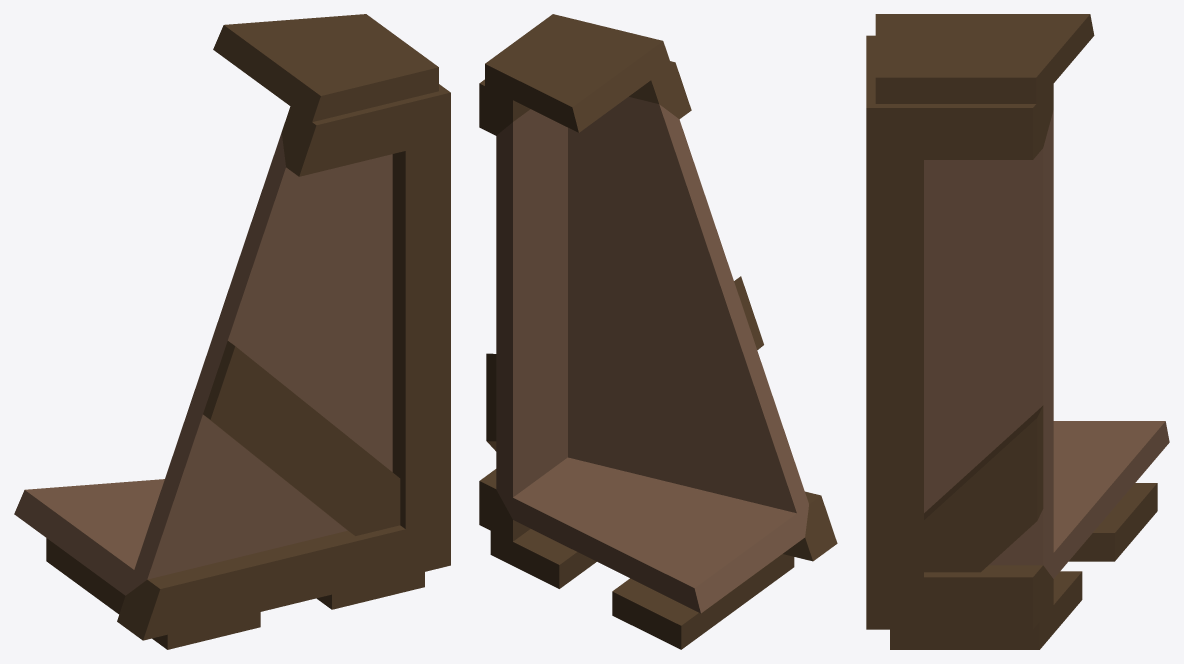
The model's file is crate_chunk4.fbx.
3 views of the same model, side by side, from view 1: azimuth 30°, elevation 25°; view 2: azimuth 150°, elevation 25°; view 3: azimuth 270°, elevation 25° (orthographic). The views are drawn at different scales.
Parts seen in each view (by area): view 1: crate_chunk4; view 2: crate_chunk4; view 3: crate_chunk4.
Part boxes in pixels (left/top/right/bottom): crate_chunk4: left=14, top=14, right=450, bottom=649; crate_chunk4: left=479, top=14, right=837, bottom=649; crate_chunk4: left=866, top=14, right=1169, bottom=649.
Size of the model in its own units: 136 by 221 by 105.
